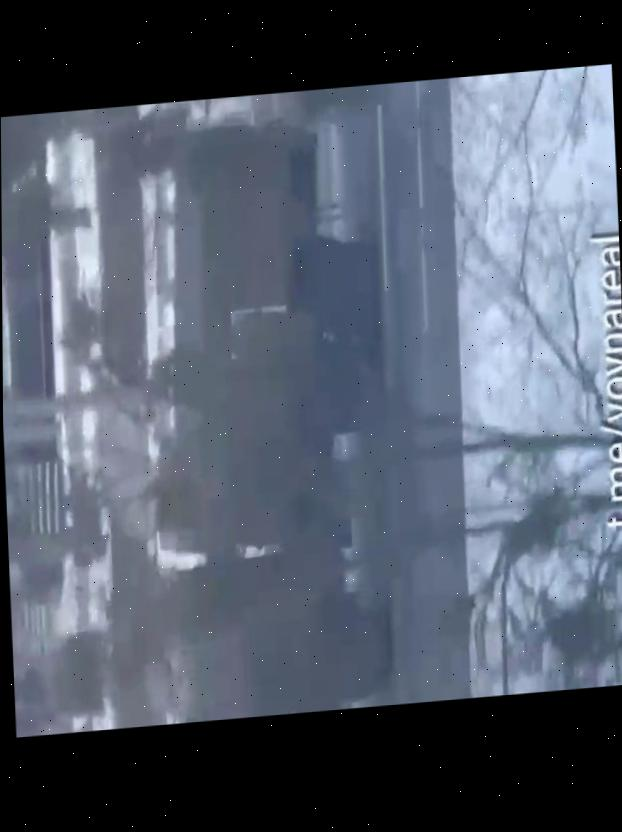truck: (123, 104, 401, 727)
